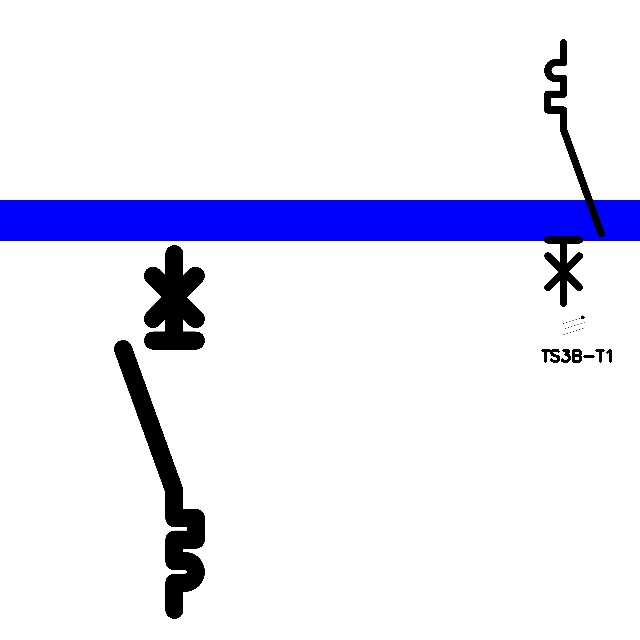interruptor_termomagnetico: (114, 245, 205, 619), (541, 36, 608, 310)
